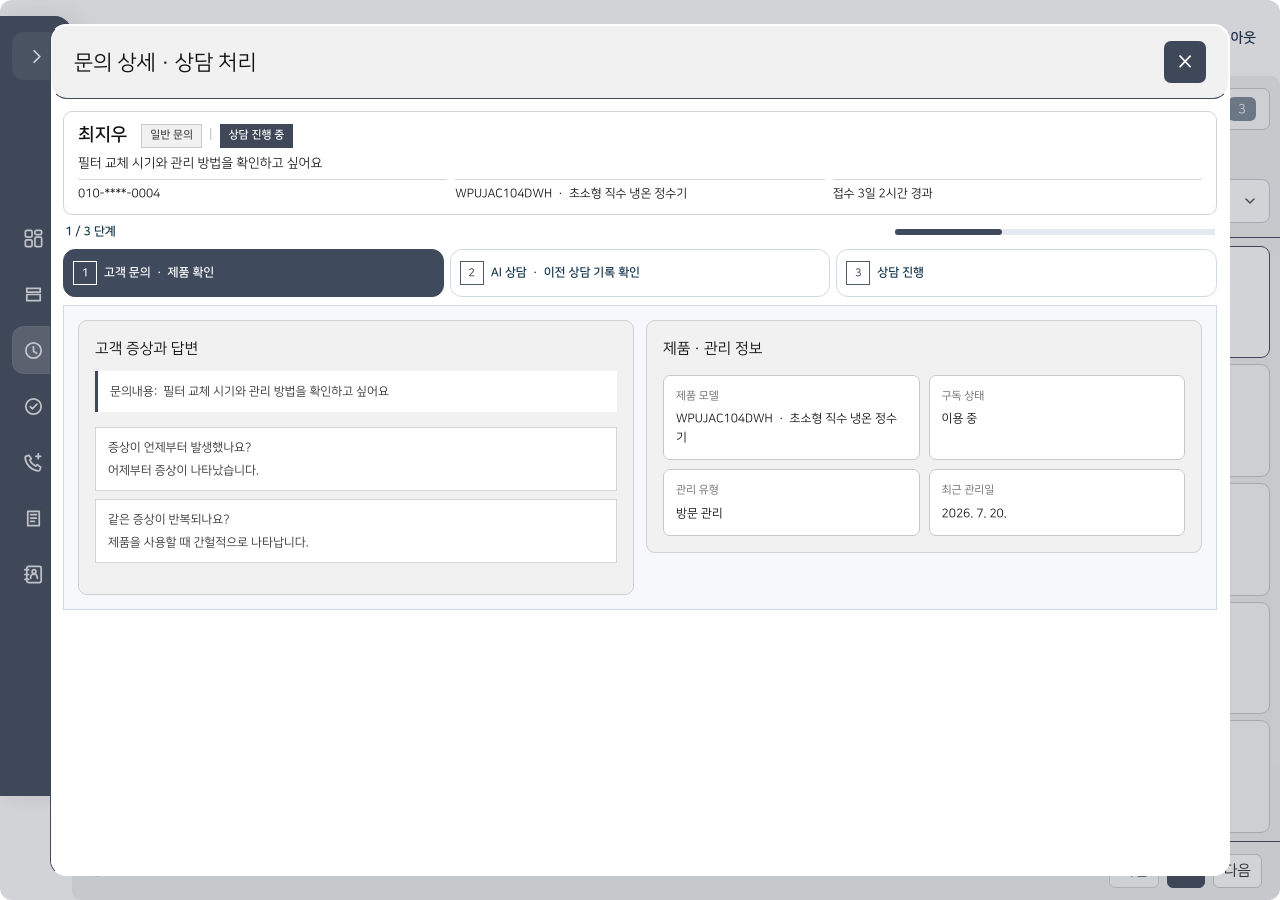
it: 디자인 미리보기의 배포용 화면 공통 사용 › 처리 중인 샘플 상세에서도 배포용 AI·이전 상담 및 수정 입력 화면을 확인한다
This screenshot has width=1280, height=900.
Step 1. Click the button with aria-label "상담 2단계: AI 상담 · 이전 상담 기록 확인" → (640, 273), box [450,249,830,297]
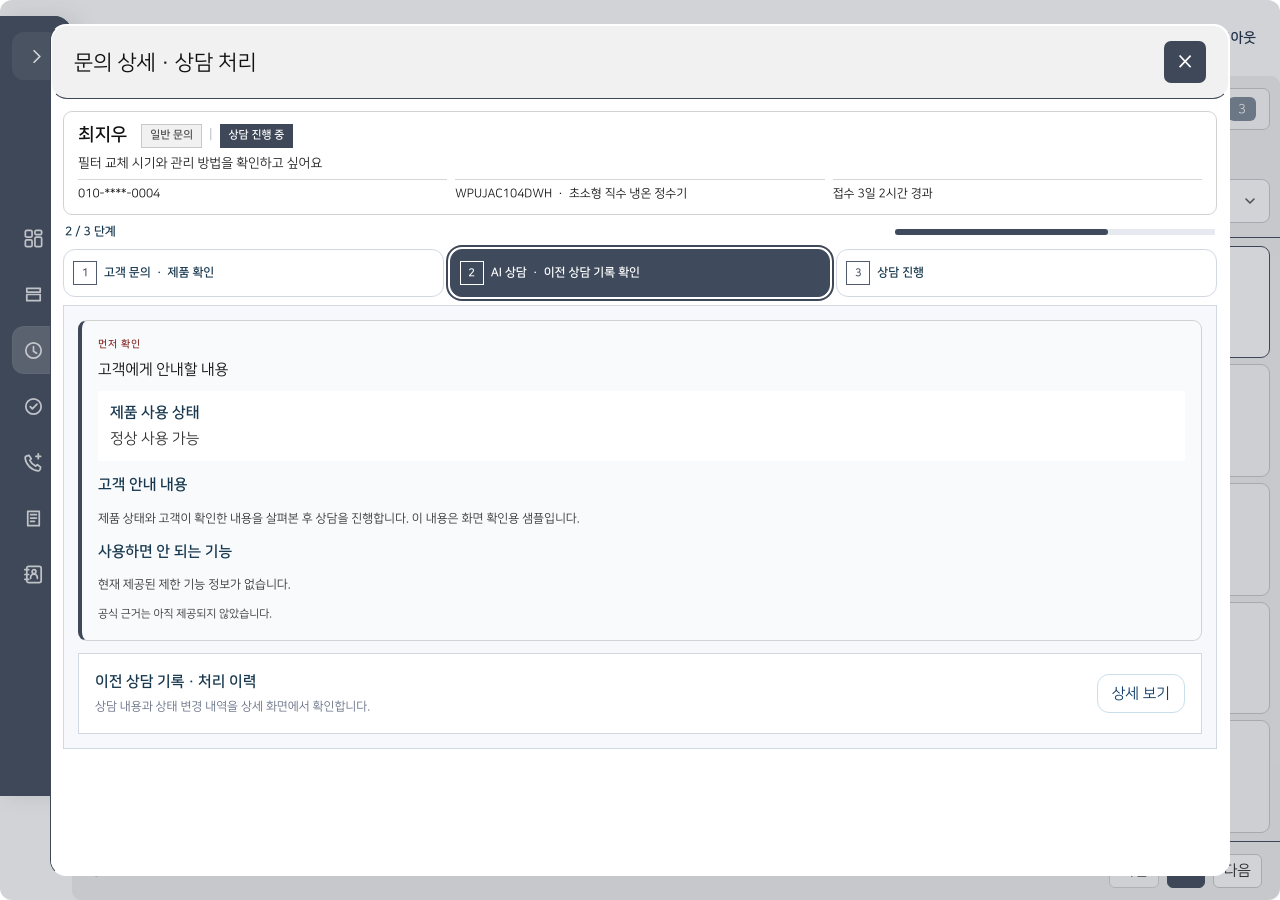
Now the heading "고객에게 안내할 내용" is shown, box [98,361,228,378]
Step 2. Click the button with aria-label "상담 3단계: 상담 진행" → (901, 273), box [836,249,1217,297]
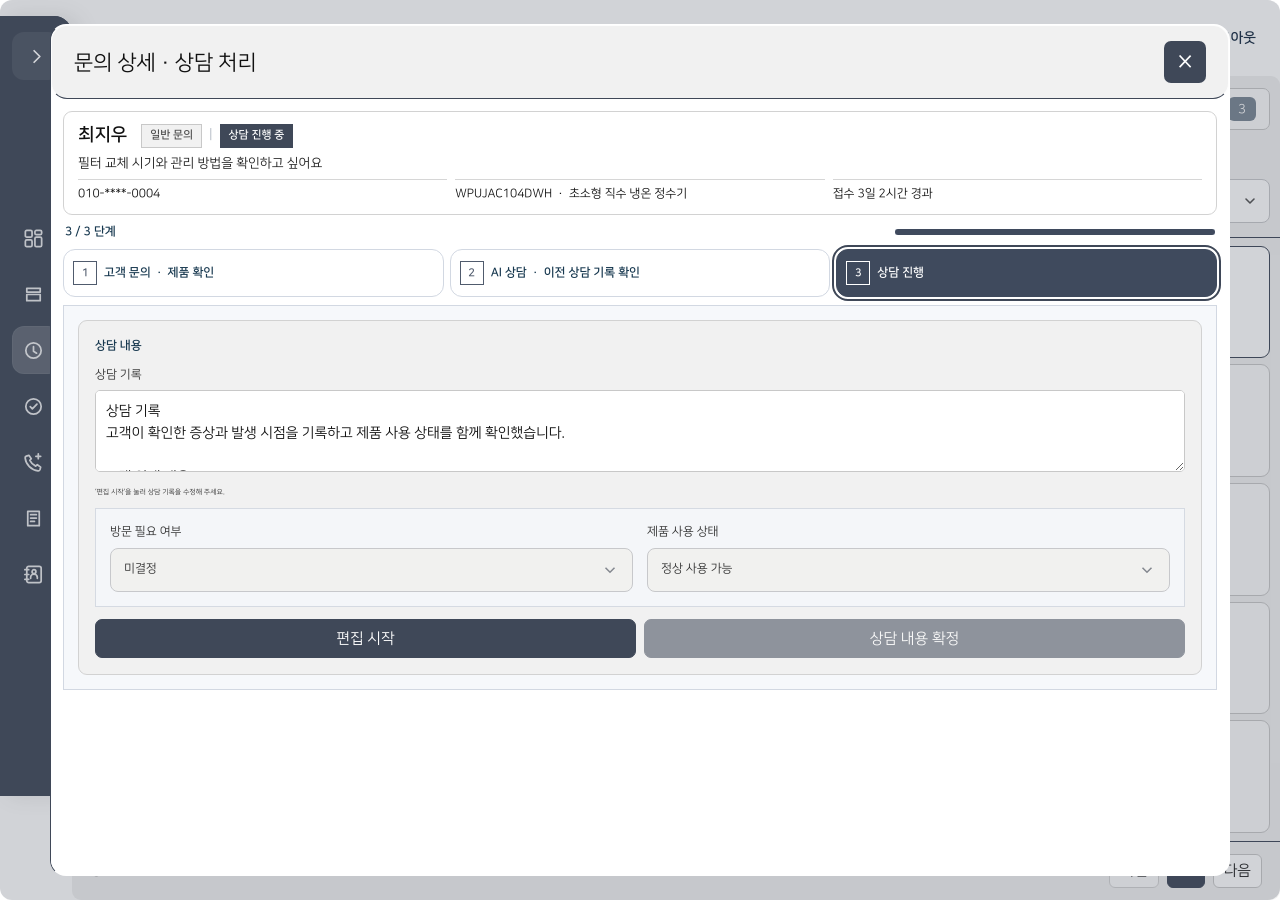
Now the text box labelled "상담 기록" is disabled, box [95,390,1185,472]
Step 3. Click the button "편집 시작" → (366, 638), box [95,619,636,658]
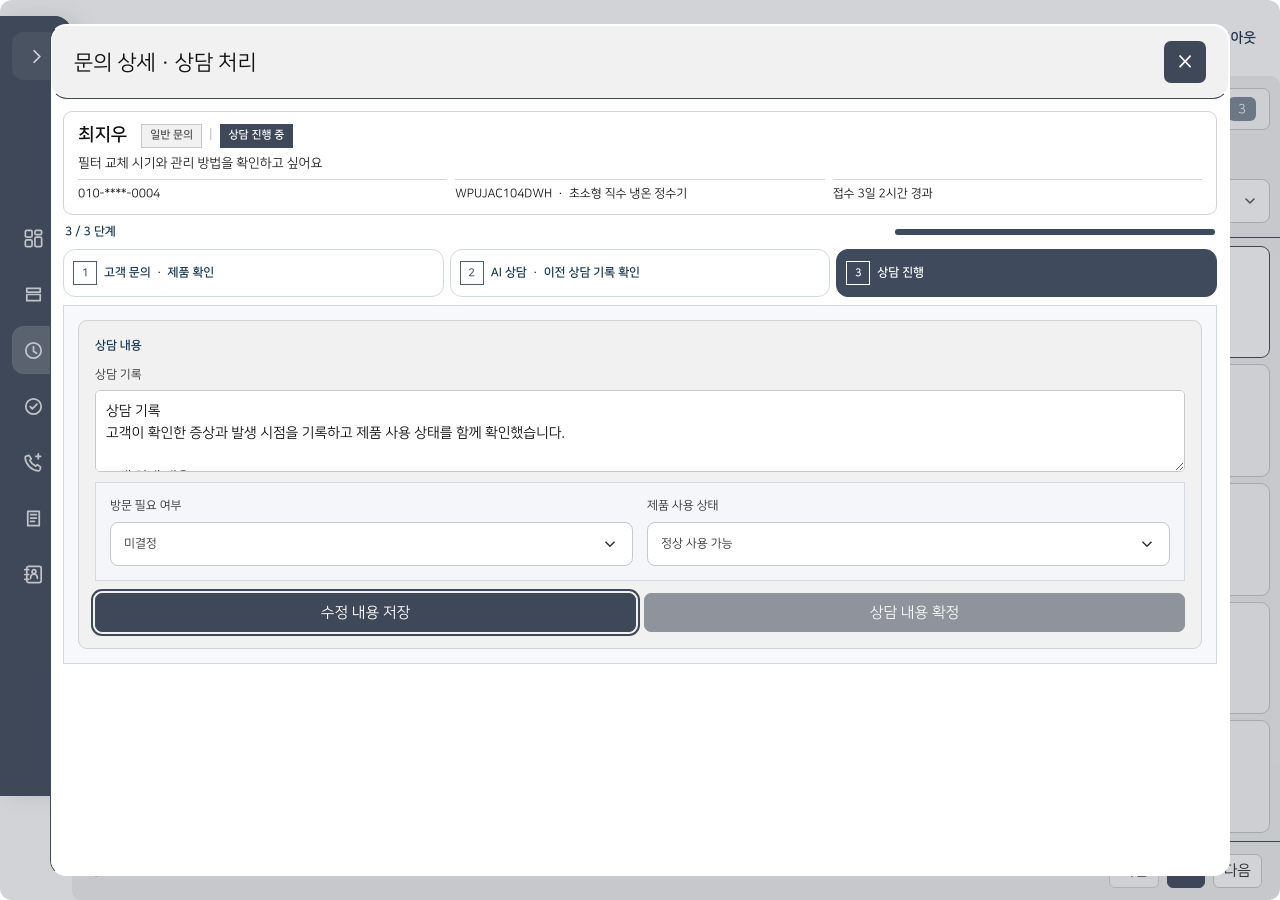
Expected: the text box labelled "상담 기록" is enabled, [95,390,1185,472]
Now the button "수정 내용 저장" is shown, box [95,593,636,632]
